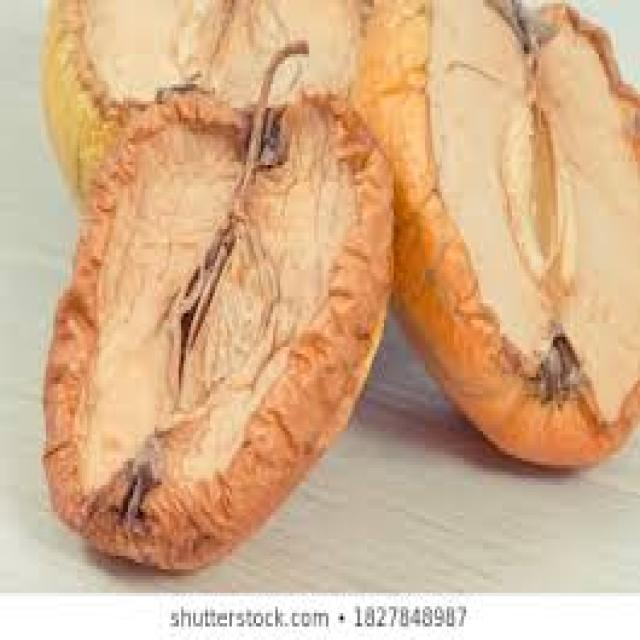biodegradable: (41, 37, 394, 563), (350, 0, 638, 465), (39, 0, 365, 199)
